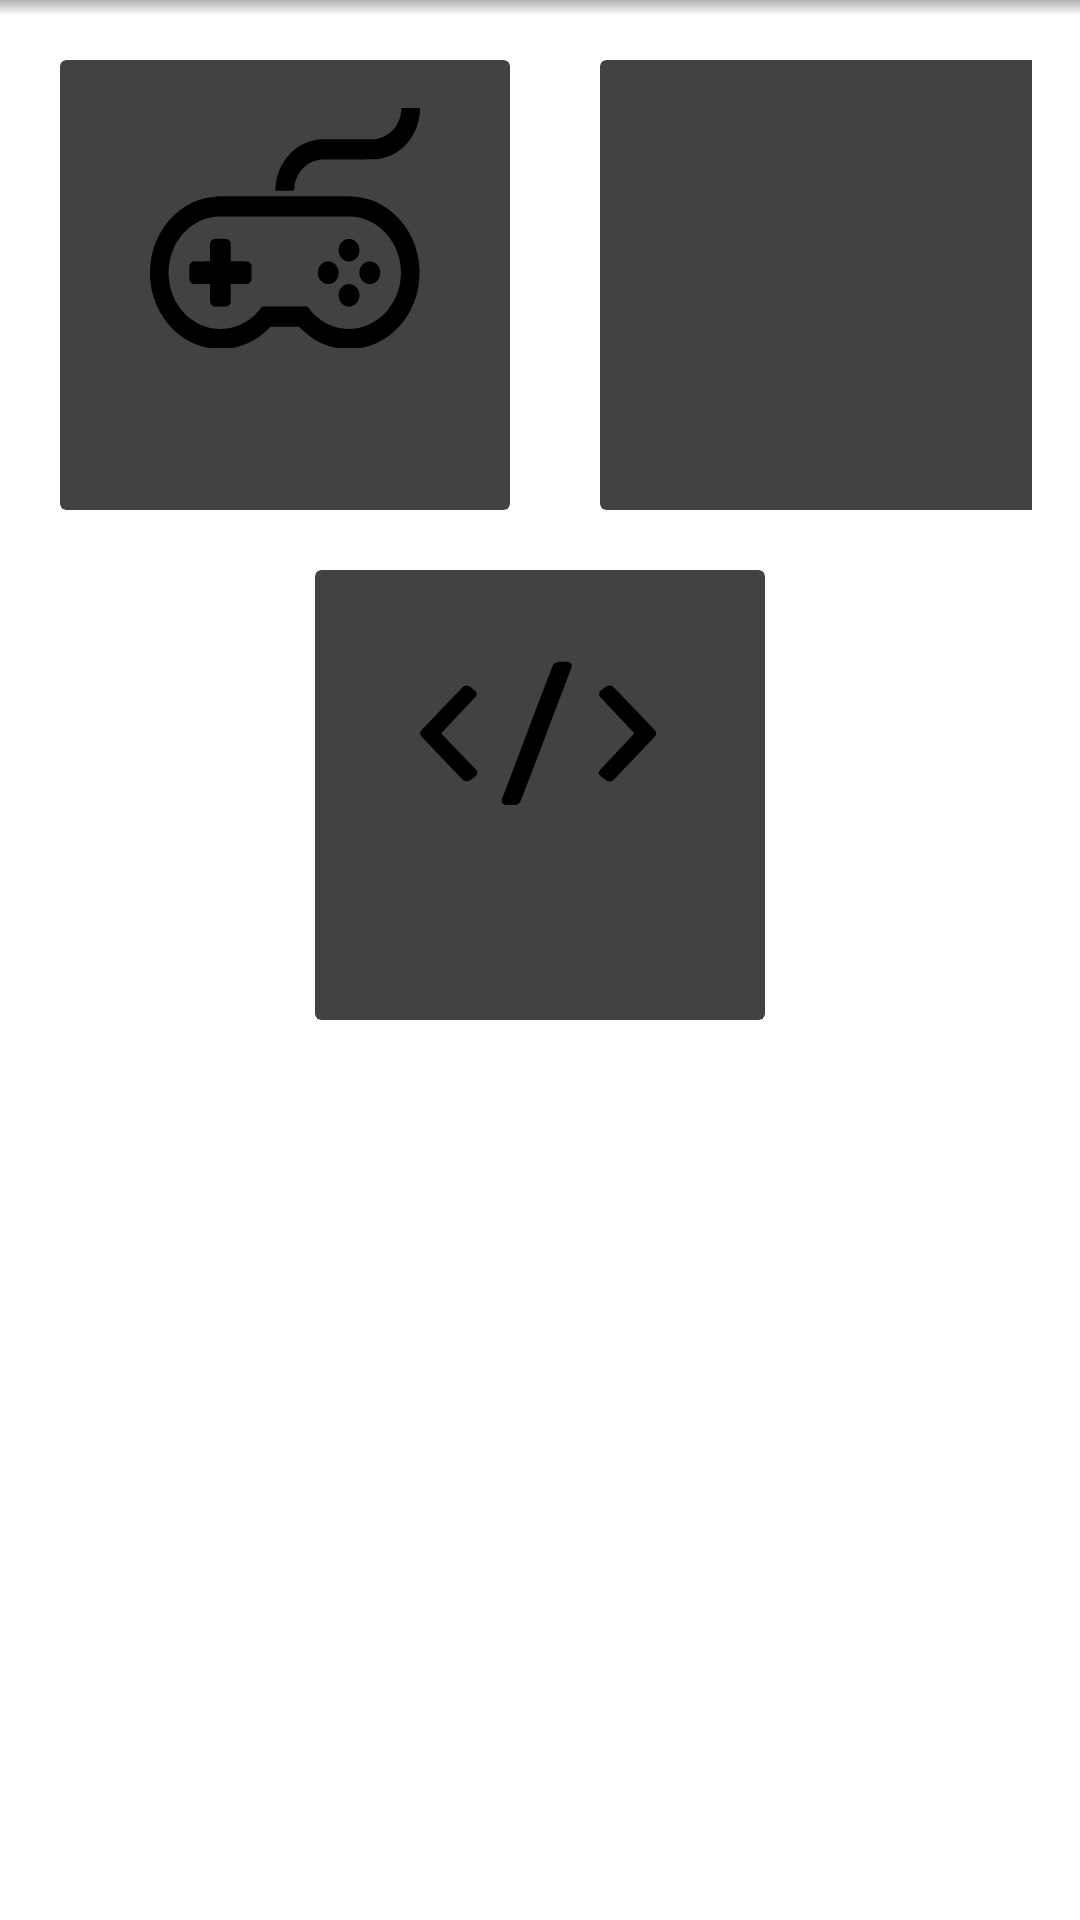

Locate icon controls on the screen. Image size 1080px×1920px, boxes as (x1, y1, x2, y2).
code: (420, 662, 656, 805)
